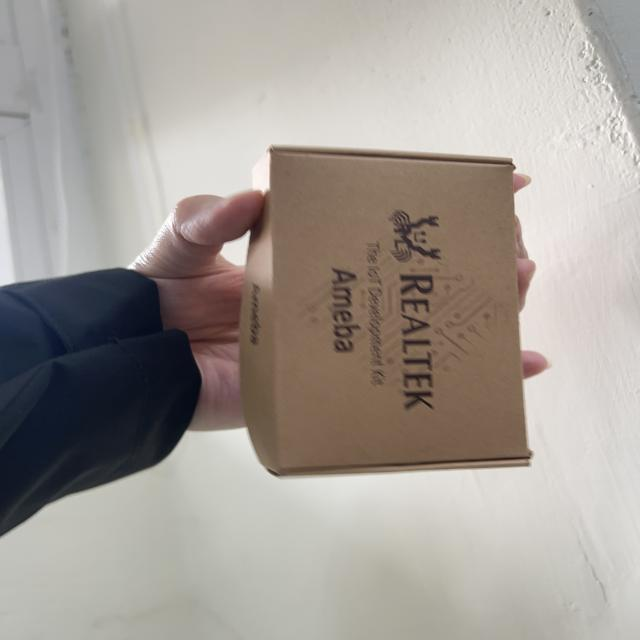box: (221, 132, 561, 510)
